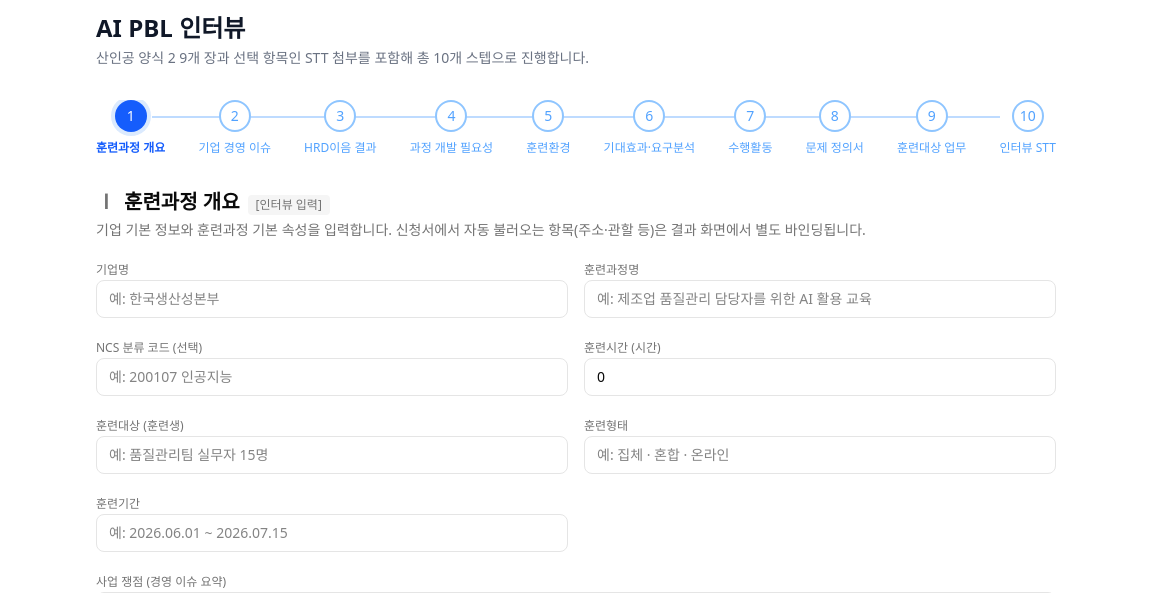
it: PBLInterviewClient › PBL 기업 경영 이슈 작성 가이드 영역에 양식 √ "기업담당자와의 인터뷰" 안내가 노출된다 (#5 PBL)
The image size is (1152, 593).
Click the text "기업 경영 이슈": [235, 148] box [198, 140, 271, 156]
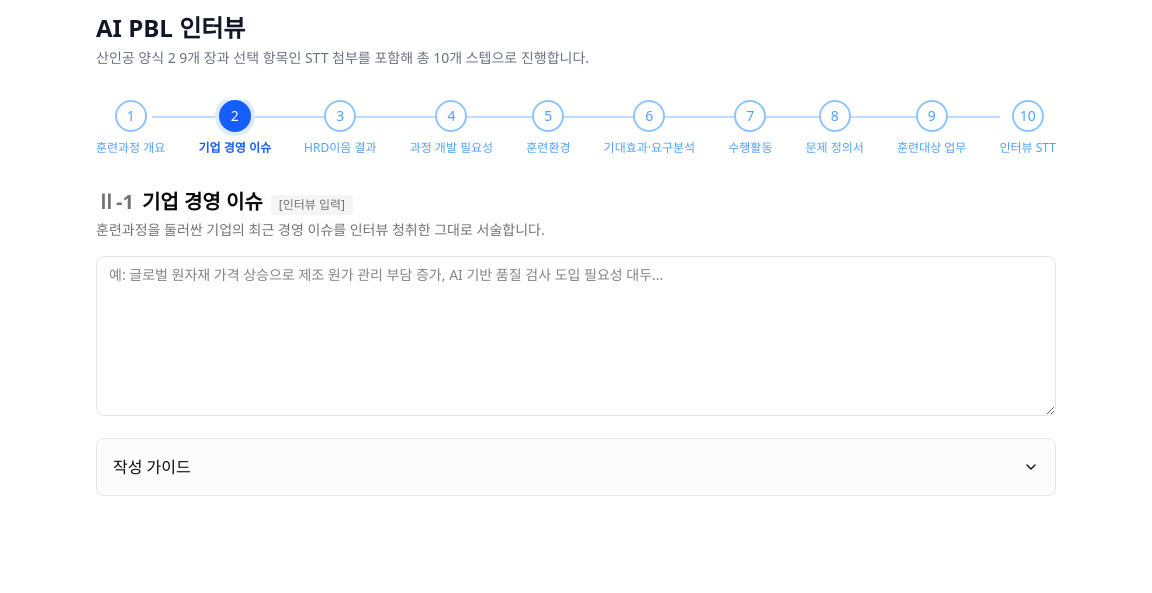
Click the button "작성 가이드": [152, 467] box [113, 439, 1039, 495]
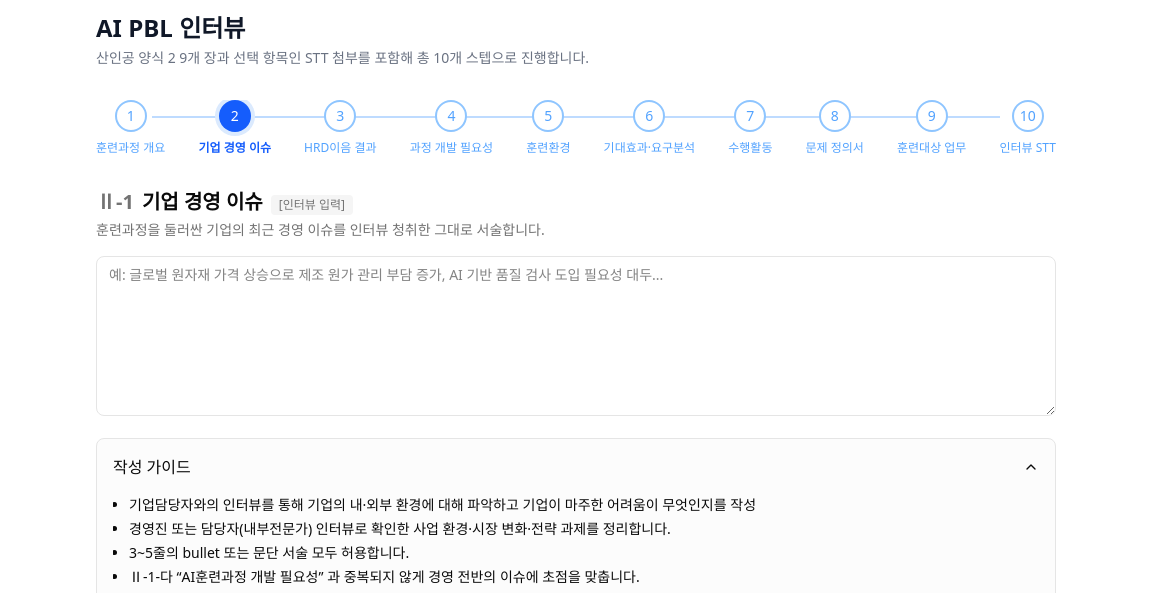
Expected: the list item "기업담당자와의 인터뷰를 통해 기업의 내·외부 환경에 대해 파악하고 기업이 마주한 어려움이 무엇인지를 작성" is shown, [129, 495, 756, 514]
